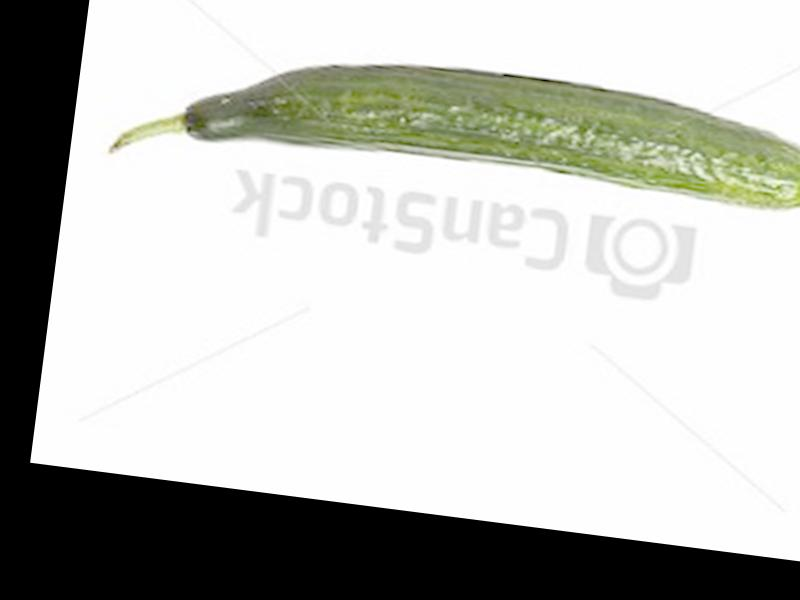Cucumber: (105, 23, 800, 239)
